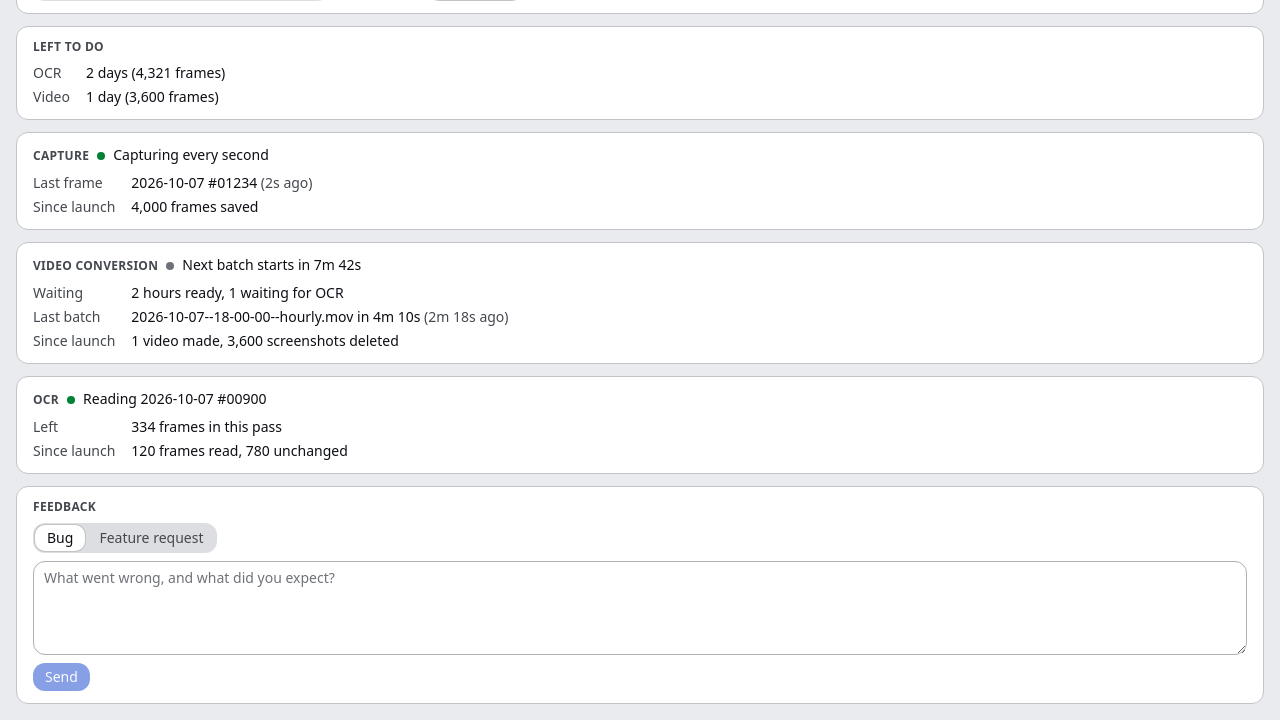
it: ActivityView › feedback › keeps the text and says why when sending fails
(page scrolled)
Type "It crashed" into the text box named "Feedback" at (640, 608), box [33, 561, 1247, 655]
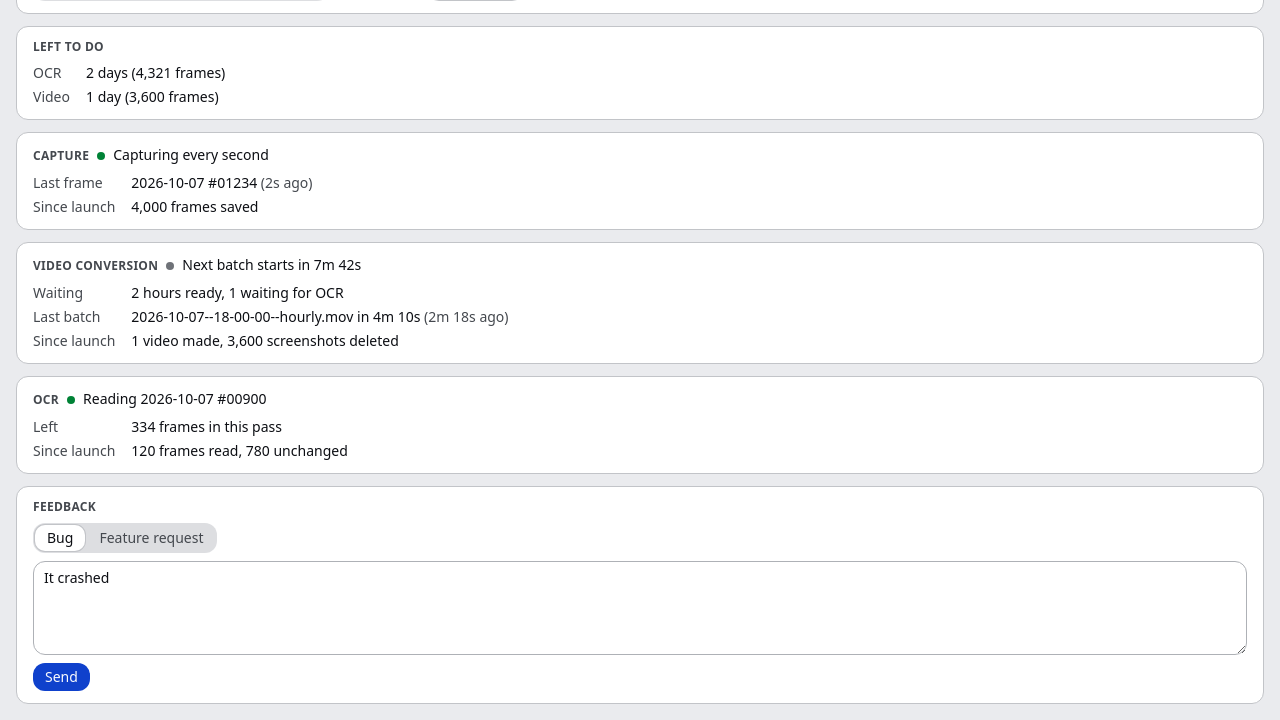
Click the button "Send" at (61, 677), box [33, 663, 90, 691]
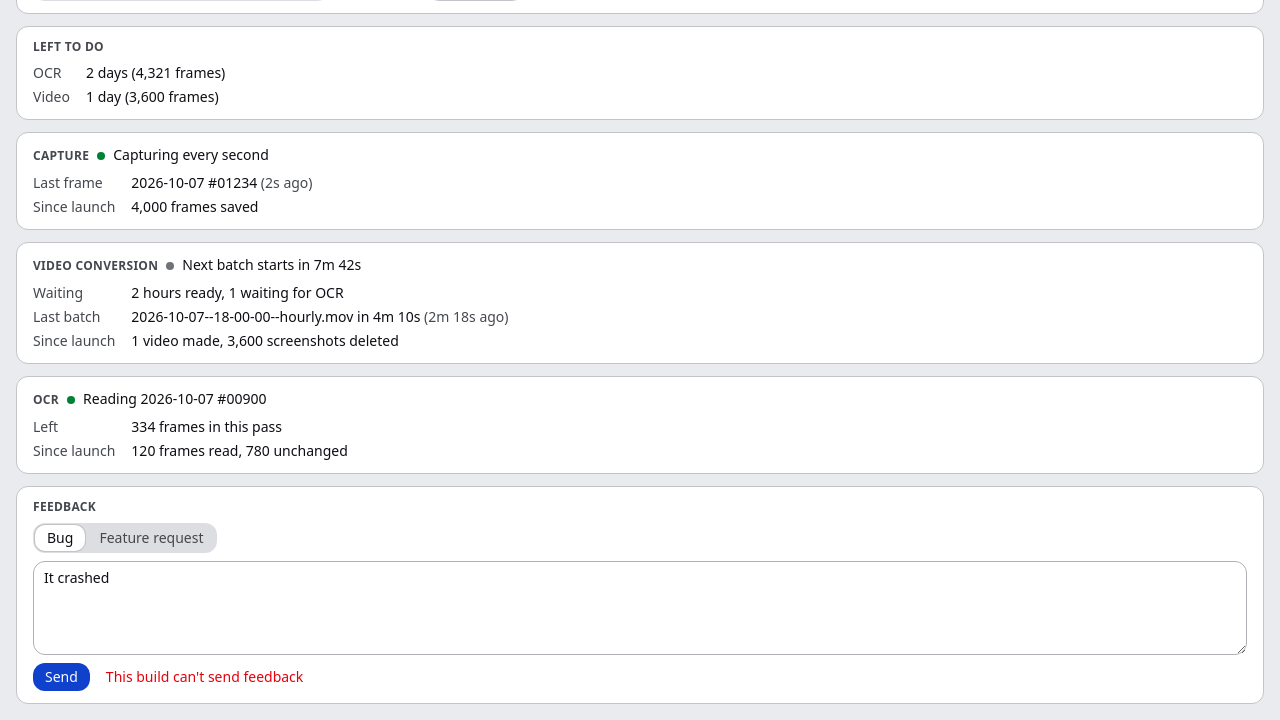
Now the message shows "can't send feedback", box [106, 667, 303, 686]
